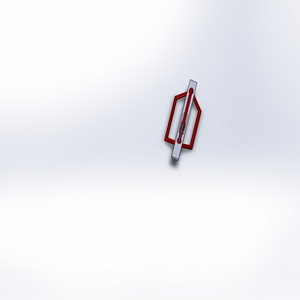submarine: (146, 74, 236, 174)
